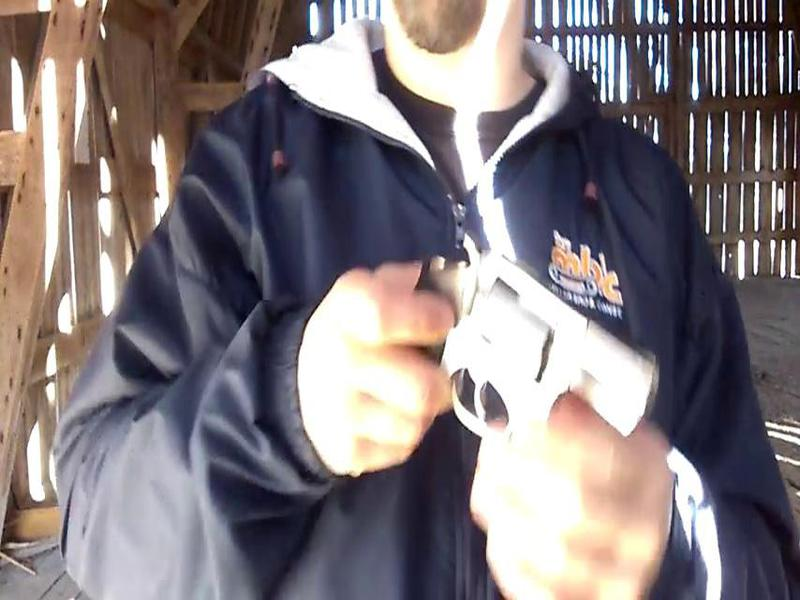Revolver: (371, 214, 697, 484)
